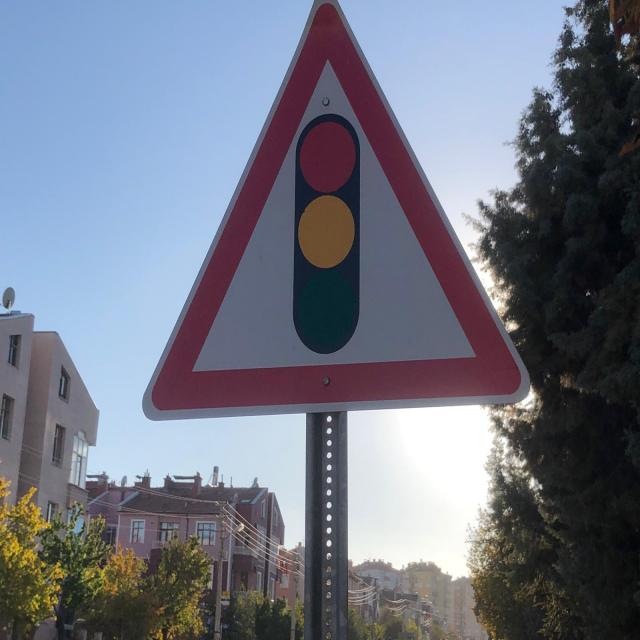light_traffic: (138, 0, 537, 427)
